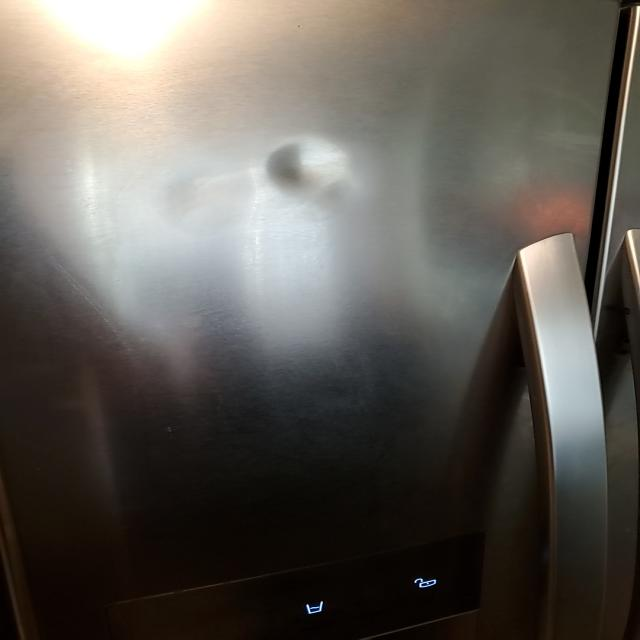dents: (250, 139, 383, 225)
